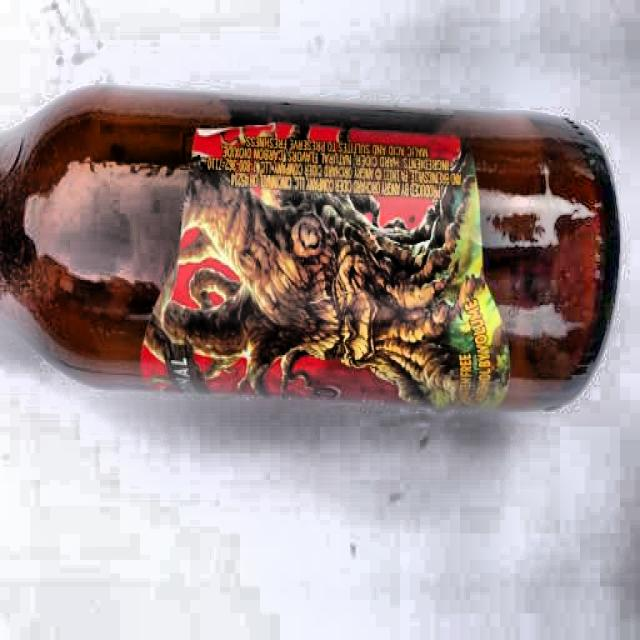glass: (0, 75, 621, 411)
